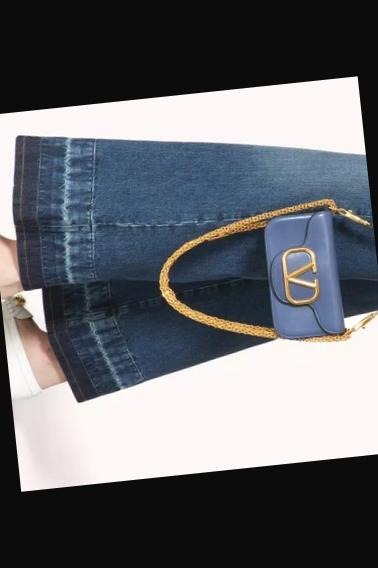VALENTINO: (279, 246, 320, 306)
